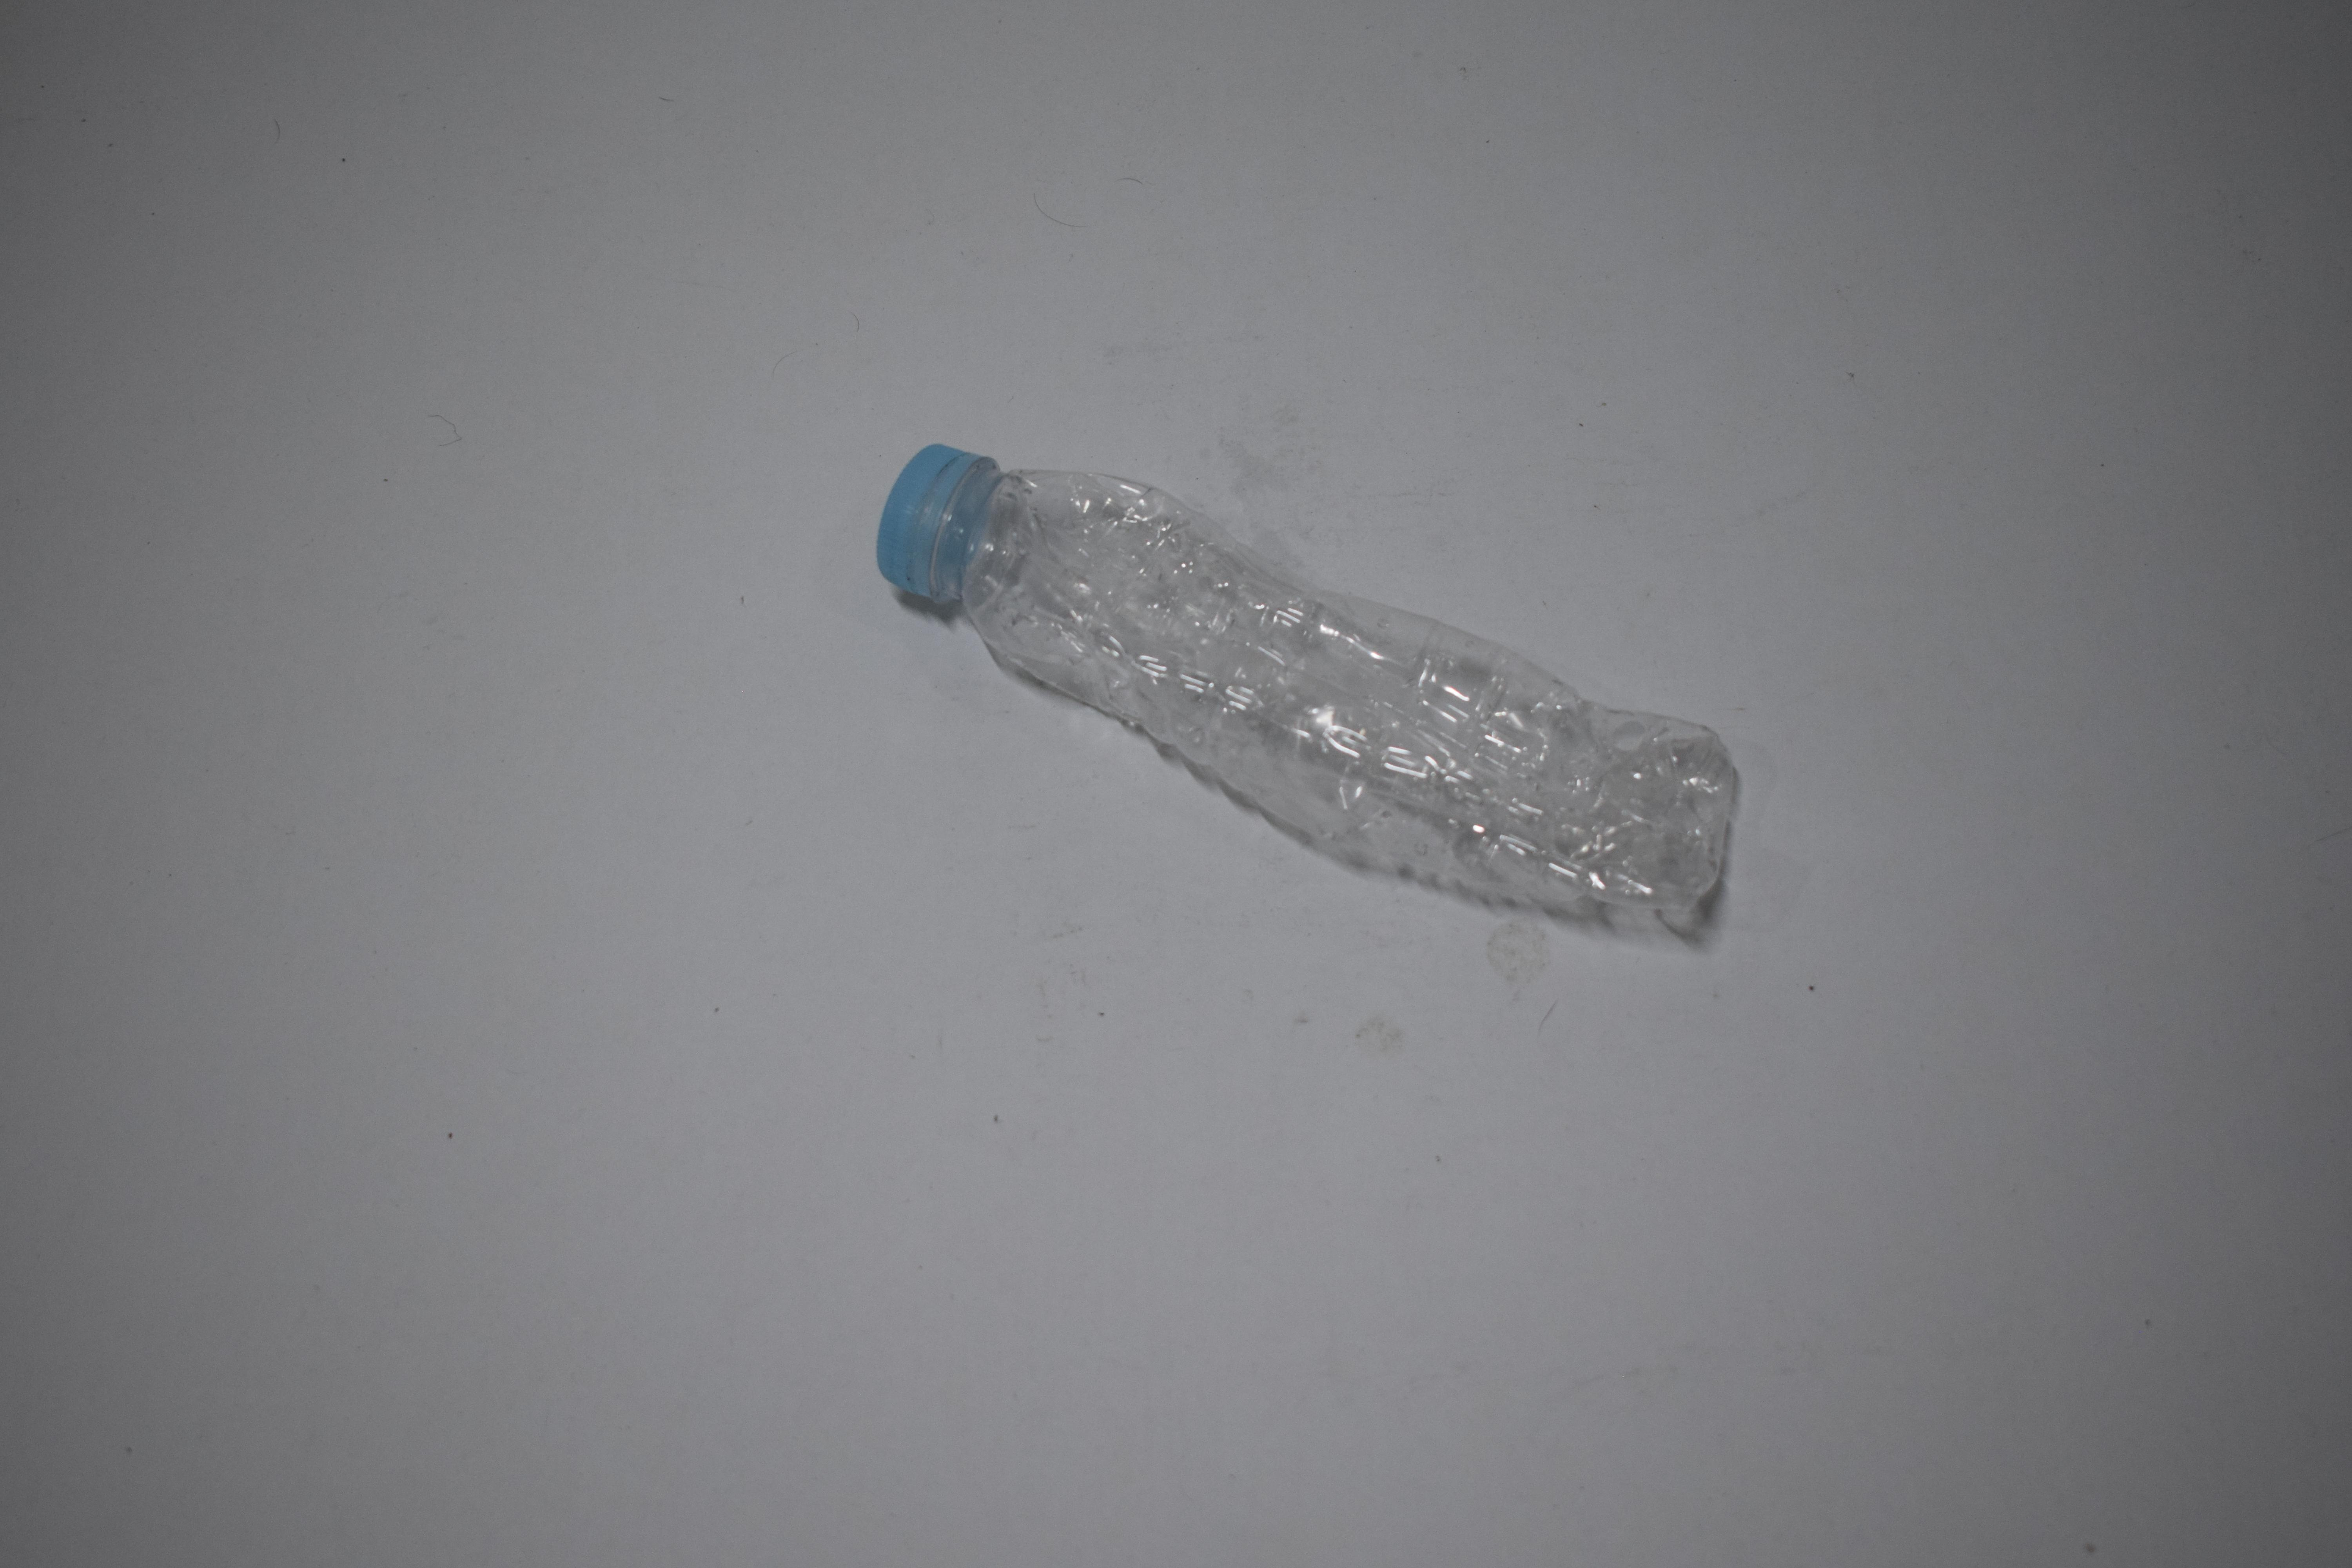bottle: (0, 427, 439, 949)
